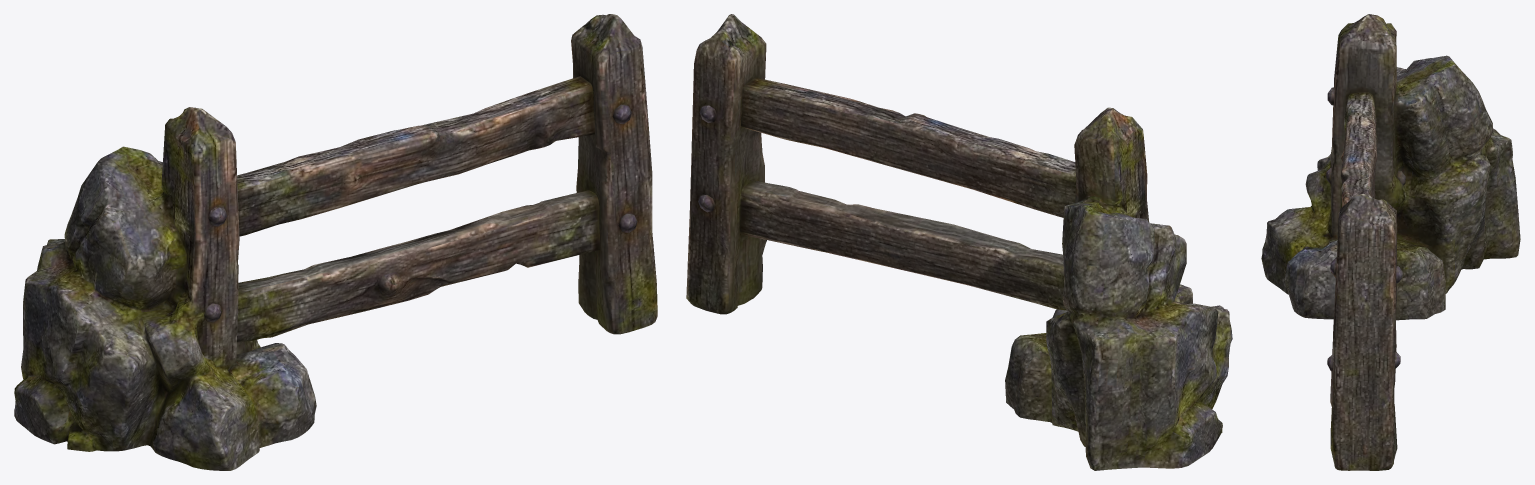
The model's file is prop_fence_rock.glb.
3 views of the same model, side by side, from view 1: azimuth 30°, elevation 25°; view 2: azimuth 150°, elevation 25°; view 3: azimuth 270°, elevation 25° (orthographic). The views are drawn at different scales.
Visible parts, largest first — view 1: tripo_node_7915f3a1-9033-4ffb-a927-4f5141262888; view 2: tripo_node_7915f3a1-9033-4ffb-a927-4f5141262888; view 3: tripo_node_7915f3a1-9033-4ffb-a927-4f5141262888.
Part boxes in pixels (x1,y1,x2,y2): tripo_node_7915f3a1-9033-4ffb-a927-4f5141262888: (14, 14, 657, 470); tripo_node_7915f3a1-9033-4ffb-a927-4f5141262888: (686, 14, 1232, 470); tripo_node_7915f3a1-9033-4ffb-a927-4f5141262888: (1261, 14, 1520, 470).
Bounding box in the file's own units: 0.999 × 0.5206 × 0.4438.
1 material, 1 textured.
